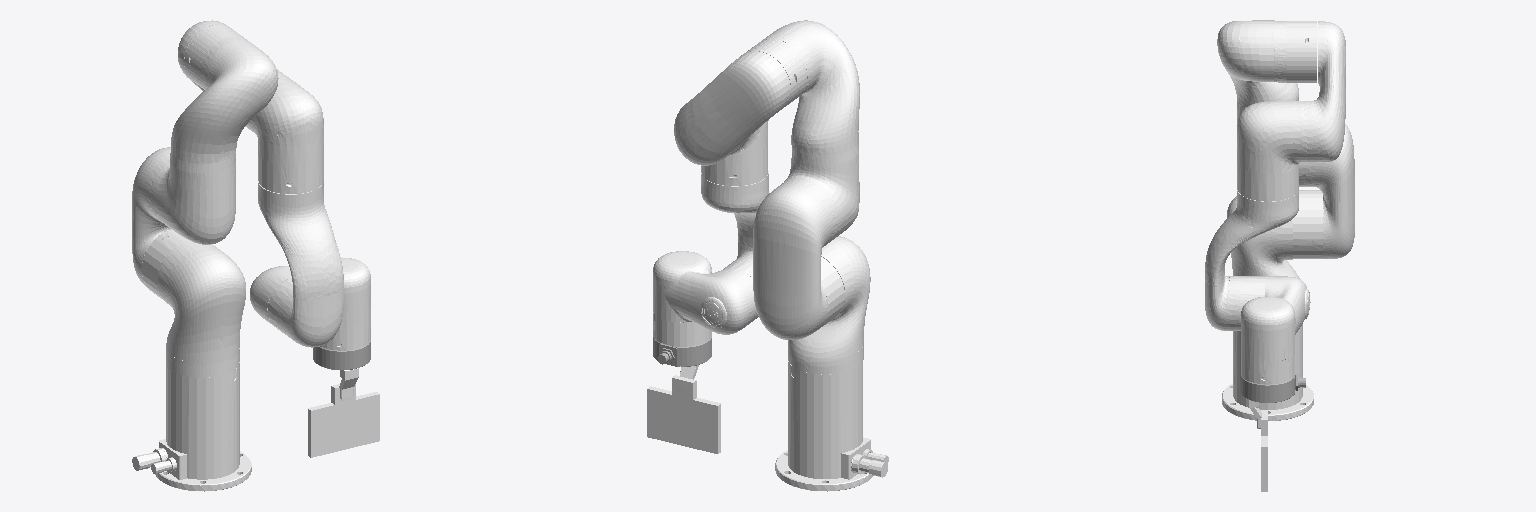
URDF robot description (xarm6_with_gripper):
<?xml version="1.0" encoding="utf-8"?>
<!-- =================================================================================== -->
<!-- |    This document was autogenerated by xacro from xarm6_with_gripper.xacro       | -->
<!-- |    EDITING THIS FILE BY HAND IS NOT RECOMMENDED                                 | -->
<!-- =================================================================================== -->
<robot name="xarm6_with_gripper">
  <!-- <xacro:load_gripper attach_to="$(arg prefix)link6" /> -->
  <!--
  Author: [author] <[email redacted]>
  Contributers:
-->
  <gazebo>
    <plugin filename="libgazebo_ros_control.so" name="gazebo_ros_control">
      <robotNamespace>/xarm</robotNamespace>
      <!-- <controlPeriod>0.0001</controlPeriod> -->
      <robotSimType>gazebo_ros_control/DefaultRobotHWSim</robotSimType>
      <legacyModeNS>true</legacyModeNS>
      <!-- <preserveWorldVelocity>true</preserveWorldVelocity> -->
    </plugin>
  </gazebo>
  <link name="world"/>
  <joint name="world_joint" type="fixed">
    <parent link="world"/>
    <child link="link_base"/>
    <origin rpy="0 0 0" xyz="0 0 0"/>
  </joint>
  <material name="Black">
    <color rgba="0.0 0.0 0.0 1.0"/>
  </material>
  <material name="Red">
    <color rgba="0.8 0.0 0.0 1.0"/>
  </material>
  <material name="White">
    <color rgba="1.0 1.0 1.0 1.0"/>
  </material>
  <material name="Silver">
    <color rgba="0.753 0.753 0.753 1.0"/>
  </material>
  <link name="link_base">
    <visual>
      <geometry>
        <mesh filename="xarm_description/meshes/xarm6/visual/base.obj"/>
      </geometry>
      <origin rpy="0 0 0" xyz="0 0 0"/>
      <material name="White"/>
    </visual>
    <collision>
      <geometry>
        <mesh filename="xarm_description/meshes/xarm6/collision/base_vhacd.obj"/>
      </geometry>
      <origin rpy="0 0 0" xyz="0 0 0"/>
    </collision>
    <inertial>
      <origin rpy="0 0 0" xyz="0.0 0.0 0.09103"/>
      <mass value="2.7"/>
      <inertia ixx="0.00494875" ixy="-3.5E-06" ixz="1.25E-05" iyy="0.00494174" iyz="1.67E-06" izz="0.002219"/>
    </inertial>
  </link>
  <link name="link1">
    <visual>
      <geometry>
        <mesh filename="xarm_description/meshes/xarm6/visual/link1.obj"/>
      </geometry>
      <origin rpy="0 0 0" xyz="0 0 0"/>
      <material name="White"/>
    </visual>
    <collision>
      <geometry>
        <mesh filename="xarm_description/meshes/xarm6/collision/link1_vhacd.obj"/>
      </geometry>
      <origin rpy="0 0 0" xyz="0 0 0"/>
    </collision>
    <inertial>
      <origin rpy="0 0 0" xyz="-0.002 0.02692 -0.01332"/>
      <mass value="2.16"/>
      <inertia ixx="0.00539427" ixy="1.095E-05" ixz="1.635E-06" iyy="0.0048979" iyz="0.000793" izz="0.00311573"/>
    </inertial>
  </link>
  <joint name="joint1" type="revolute">
    <parent link="link_base"/>
    <child link="link1"/>
    <origin rpy="0 0 0" xyz="0 0 0.267"/>
    <axis xyz="0 0 1"/>
    <limit effort="50.0" lower="-6.28318530718" upper="6.28318530718" velocity="3.14"/>
    <dynamics damping="1.0" friction="1.0"/>
  </joint>
  <link name="link2">
    <visual>
      <geometry>
        <mesh filename="xarm_description/meshes/xarm6/visual/link2.obj"/>
      </geometry>
      <origin rpy="0 0 0" xyz="0 0 0"/>
      <material name="White"/>
      	
    </visual>
    <collision>
      <geometry>
        <mesh filename="xarm_description/meshes/xarm6/collision/link2_vhacd2.obj"/>
      </geometry>
      <origin rpy="0 0 0" xyz="0 0 0"/>
    </collision>
    <inertial>
      <origin rpy="0 0 0" xyz="0.03531 -0.21398 0.03386"/>
      <mass value="1.71"/>
      <inertia ixx="0.0248674" ixy="-0.00430651" ixz="-0.00067797" iyy="0.00485548" iyz="0.00457245" izz="0.02387827"/>
    </inertial>
  </link>
  <joint name="joint2" type="revolute">
    <parent link="link1"/>
    <child link="link2"/>
    <origin rpy="-1.5708 0 0" xyz="0 0 0"/>
    <axis xyz="0 0 1"/>
    <limit effort="50.0" lower="-2.059" upper="2.0944" velocity="3.14"/>
    <dynamics damping="1.0" friction="1.0"/>
  </joint>
  <link name="link3">
    <visual>
      <geometry>
        <mesh filename="xarm_description/meshes/xarm6/visual/link3.obj"/>
      </geometry>
      <origin rpy="0 0 0" xyz="0 0 0"/>
      <material name="White"/>
    </visual>
    <collision>
      <geometry>
        <mesh filename="xarm_description/meshes/xarm6/collision/link3_vhacd.obj"/>
      </geometry>
      <origin rpy="0 0 0" xyz="0 0 0"/>
    </collision>
    <inertial>
      <origin rpy="0 0 0" xyz="0.06781 0.10749 0.01457"/>
      <mass value="1.384"/>
      <inertia ixx="0.0053694" ixy="0.0014185" ixz="-0.00092094" iyy="0.0032423" iyz="-0.00169178" izz="0.00501731"/>
    </inertial>
  </link>
  <joint name="joint3" type="revolute">
    <parent link="link2"/>
    <child link="link3"/>
    <origin rpy="0 0 0" xyz="0.0535 -0.2845 0"/>
    <axis xyz="0 0 1"/>
    <limit effort="32.0" lower="-3.927" upper="0.19198" velocity="3.14"/>
    <dynamics damping="1.0" friction="1.0"/>
  </joint>
  <link name="link4">
    <visual>
      <geometry>
        <mesh filename="xarm_description/meshes/xarm6/visual/link4.obj"/>
      </geometry>
      <origin rpy="0 0 0" xyz="0 0 0"/>
      <material name="White"/>
    </visual>
    <collision>
      <geometry>
        <mesh filename="xarm_description/meshes/xarm6/collision/link4_vhacd.obj"/>
      </geometry>
      <origin rpy="0 0 0" xyz="0 0 0"/>
    </collision>
    <inertial>
      <origin rpy="0 0 0" xyz="-0.00021 0.02578 -0.02538"/>
      <mass value="1.115"/>
      <inertia ixx="0.00439263" ixy="5.028E-05" ixz="1.374E-05" iyy="0.0040077" iyz="0.00045338" izz="0.00110321"/>
    </inertial>
  </link>
  <joint name="joint4" type="revolute">
    <parent link="link3"/>
    <child link="link4"/>
    <origin rpy="-1.5708 0 0" xyz="0.0775 0.3425 0"/>
    <axis xyz="0 0 1"/>
    <limit effort="32.0" lower="-6.28318530718" upper="6.28318530718" velocity="3.14"/>
    <dynamics damping="1.0" friction="1.0"/>
  </joint>
  <link name="link5">
    <visual>
      <geometry>
        <mesh filename="xarm_description/meshes/xarm6/visual/link5.obj"/>
      </geometry>
      <origin rpy="0 0 0" xyz="0 0 0"/>
      <material name="White"/>
    </visual>
    <collision>
      <geometry>
        <mesh filename="xarm_description/meshes/xarm6/collision/link5_vhacd.obj"/>
      </geometry>
      <origin rpy="0 0 0" xyz="0 0 0"/>
    </collision>
    <inertial>
      <origin rpy="0 0 0" xyz="0.05428 0.01781 0.00543"/>
      <mass value="1.275"/>
      <inertia ixx="0.001202758" ixy="0.000492428" ixz="-0.00039147" iyy="0.0022876" iyz="-1.235E-04" izz="0.0026866"/>
    </inertial>
  </link>
  <joint name="joint5" type="revolute">
    <parent link="link4"/>
    <child link="link5"/>
    <origin rpy="1.5708 0 0" xyz="0 0 0"/>
    <axis xyz="0 0 1"/>
    <limit effort="32.0" lower="-1.69297" upper="3.14159265359" velocity="3.14"/>
    <dynamics damping="1.0" friction="1.0"/>
  </joint>
  <link name="link6">
    <visual>
      <geometry>
        <mesh filename="xarm_description/meshes/xarm6/visual/link6.obj"/>
      </geometry>
      <origin rpy="0 0 0" xyz="0 0 0"/>
      <material name="Silver"/>
    </visual>
    <collision>
      <geometry>
        <mesh filename="xarm_description/meshes/xarm6/visual/link6.obj"/>
      </geometry>
      <origin rpy="0 0 0" xyz="0 0 0"/>
    </collision>
    <inertial>
      <origin rpy="0 0 0" xyz="0 0.00064 -0.00952"/>
      <mass value="0.1096"/>
      <inertia ixx="4.5293E-05" ixy="0" ixz="0" iyy="4.8111E-05" iyz="0" izz="7.9715E-05"/>
    </inertial>
  </link>
  <joint name="joint6" type="revolute">
    <parent link="link5"/>
    <child link="link6"/>
    <origin rpy="-1.5708 0 0" xyz="0.076 0.097 0"/>
    <axis xyz="0 0 1"/>
    <limit effort="20.0" lower="-6.28318530718" upper="6.28318530718" velocity="3.14"/>
    <dynamics damping="1.0" friction="1.0"/>
  </joint>
  <transmission name="tran1">
    <type>transmission_interface/SimpleTransmission</type>
    <joint name="joint1">
      <hardwareInterface>hardware_interface/PositionJointInterface</hardwareInterface>
    </joint>
    <actuator name="motor1">
      <hardwareInterface>hardware_interface/PositionJointInterface</hardwareInterface>
      <mechanicalReduction>100</mechanicalReduction>
    </actuator>
  </transmission>
  <transmission name="tran2">
    <type>transmission_interface/SimpleTransmission</type>
    <joint name="joint2">
      <hardwareInterface>hardware_interface/PositionJointInterface</hardwareInterface>
    </joint>
    <actuator name="motor2">
      <hardwareInterface>hardware_interface/PositionJointInterface</hardwareInterface>
      <mechanicalReduction>reduction</mechanicalReduction>
    </actuator>
  </transmission>
  <transmission name="tran3">
    <type>transmission_interface/SimpleTransmission</type>
    <joint name="joint3">
      <hardwareInterface>hardware_interface/PositionJointInterface</hardwareInterface>
    </joint>
    <actuator name="motor3">
      <hardwareInterface>hardware_interface/PositionJointInterface</hardwareInterface>
      <mechanicalReduction>reduction</mechanicalReduction>
    </actuator>
  </transmission>
  <transmission name="tran4">
    <type>transmission_interface/SimpleTransmission</type>
    <joint name="joint4">
      <hardwareInterface>hardware_interface/PositionJointInterface</hardwareInterface>
    </joint>
    <actuator name="motor3">
      <hardwareInterface>hardware_interface/PositionJointInterface</hardwareInterface>
      <mechanicalReduction>reduction</mechanicalReduction>
    </actuator>
  </transmission>
  <transmission name="tran5">
    <type>transmission_interface/SimpleTransmission</type>
    <joint name="joint5">
      <hardwareInterface>hardware_interface/PositionJointInterface</hardwareInterface>
    </joint>
    <actuator name="motor5">
      <hardwareInterface>hardware_interface/PositionJointInterface</hardwareInterface>
      <mechanicalReduction>reduction</mechanicalReduction>
    </actuator>
  </transmission>
  <transmission name="tran6">
    <type>transmission_interface/SimpleTransmission</type>
    <joint name="joint6">
      <hardwareInterface>hardware_interface/PositionJointInterface</hardwareInterface>
    </joint>
    <actuator name="motor6">
      <hardwareInterface>hardware_interface/PositionJointInterface</hardwareInterface>
      <mechanicalReduction>reduction</mechanicalReduction>
    </actuator>
  </transmission>
  <gazebo reference="link_base">
    <selfCollide>true</selfCollide>
  </gazebo>
  <gazebo reference="link1">
    <selfCollide>true</selfCollide>
  </gazebo>
  <gazebo reference="link2">
    <selfCollide>true</selfCollide>
  </gazebo>
  <gazebo reference="link3">
    <selfCollide>true</selfCollide>
  </gazebo>
  <gazebo reference="link4">
    <selfCollide>true</selfCollide>
  </gazebo>
  <gazebo reference="link5">
    <selfCollide>true</selfCollide>
  </gazebo>
  <gazebo reference="link6">
    <selfCollide>true</selfCollide>
  </gazebo>
  <!-- gazebo plugin -->
  <!-- <xacro:gazebo_ros_control_plugin namespace="${ns}"/> -->
  <joint name="gripper_fix" type="fixed">
    <parent link="link6"/>
    <child link="xarm_gripper_base_link"/>
    <origin rpy="0 0 0" xyz="0 0 0"/>
  </joint>
  <link name="xarm_gripper_base_link">
    <inertial>
      <origin rpy="0 0 0" xyz="-0.00065489 -0.0018497 0.048028"/>
      <mass value="0.54156"/>
      <inertia ixx="0.00047106" ixy="3.9292E-07" ixz="2.6537E-06" iyy="0.00033072" iyz="-1.0975E-05" izz="0.00025642"/>
    </inertial>
    <visual>
      <origin rpy="0 0 0" xyz="0 0 0"/>
      <geometry>
        <mesh filename="xarm_gripper/meshes/finger_v2.obj"/>
      </geometry>
      <material name="White">
        <color rgba="1.0 1.0 1.0 1.0"/>
      </material>
    </visual>
    <collision>
      <origin rpy="0 0 0" xyz="0 0 0"/>
      <geometry>
        <!-- <mesh filename="xarm_gripper/meshes/finger_v2.obj"/> -->
        <mesh filename="xarm_gripper/meshes/finger.obj"/>
      </geometry>
    </collision>
  </link>
  <transmission name="drive_joint_trans">
    <type>transmission_interface/SimpleTransmission</type>
    <joint name="drive_joint">
      <hardwareInterface>hardware_interface/PositionJointInterface</hardwareInterface>
    </joint>
    <actuator name="drive_joint_motor">
      <hardwareInterface>hardware_interface/PositionJointInterface</hardwareInterface>
      <mechanicalReduction>1</mechanicalReduction>
    </actuator>
  </transmission>
  <gazebo reference="xarm_gripper_base_link">
    <selfCollide>true</selfCollide>
  </gazebo>
</robot>

--- Render facts (derived) ---
3 views of the same robot in one strip: view 1: azimuth 30°, elevation 25°; view 2: azimuth 150°, elevation 25°; view 3: azimuth 270°, elevation 25° (orthographic).
Model xarm6_with_gripper with 9 links and 8 joints (6 revolute, 2 fixed), rooted at world, posed every joint at zero.
Visible links, largest first — view 1: link2, link1, link_base, link4, link3, xarm_gripper_base_link, link5, link6; view 2: link2, link3, link_base, link5, link1, xarm_gripper_base_link, link4, link6; view 3: link2, link3, link5, link4, link1, link_base, link6, xarm_gripper_base_link.
Link boxes in pixels (box(x1,y1,x2,y2)): link2: box(132, 25, 278, 289); link1: box(142, 229, 245, 377); link_base: box(132, 362, 251, 491); link4: box(258, 181, 343, 347); link3: box(178, 20, 323, 193); xarm_gripper_base_link: box(308, 368, 379, 457); link5: box(250, 258, 370, 350); link6: box(313, 341, 370, 369); link2: box(744, 20, 859, 339); link3: box(674, 51, 790, 185); link_base: box(775, 361, 888, 491); link5: box(653, 251, 757, 346); link1: box(788, 236, 870, 374); xarm_gripper_base_link: box(647, 365, 720, 453); link4: box(701, 171, 768, 317); link6: box(653, 337, 711, 366); link2: box(1217, 20, 1354, 258); link3: box(1237, 21, 1345, 201); link5: box(1241, 276, 1310, 384); link4: box(1205, 190, 1298, 330); link1: box(1227, 190, 1322, 278); link_base: box(1222, 324, 1313, 420); link6: box(1241, 375, 1305, 402); xarm_gripper_base_link: box(1249, 400, 1267, 491).
Size in the robot's own frame: 0.3505 by 0.2052 by 0.6084 metres.
Meshes: 8 distinct files referenced, 8 mesh visuals loaded (8 OBJ).